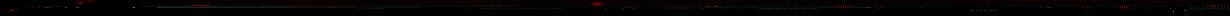Blue cone: (29, 7, 35, 8), (14, 9, 20, 10)
Yellow cone: (589, 2, 605, 6), (835, 5, 851, 9), (1116, 5, 1130, 9), (873, 6, 886, 9), (1081, 6, 1093, 9)
